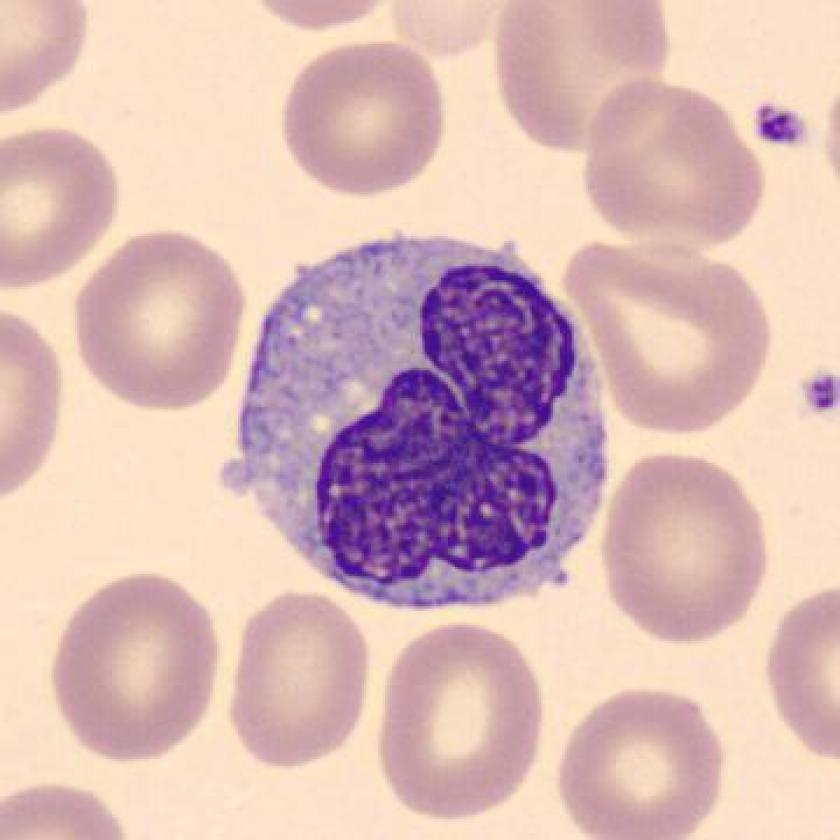monocyte: (209, 210, 640, 631)
